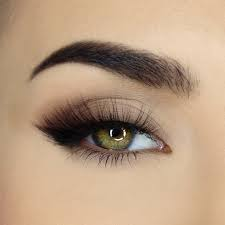pupil: (93, 120, 134, 150)
